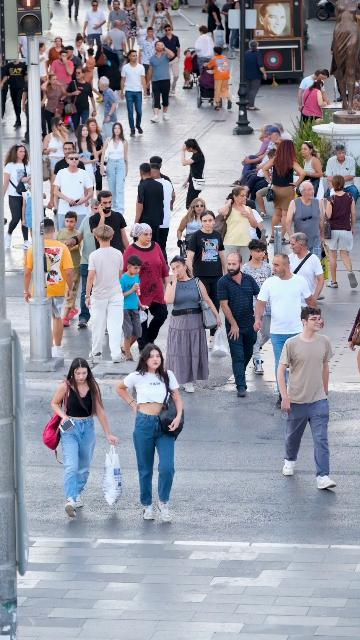person: (115, 343, 184, 523), (50, 357, 119, 517), (276, 306, 336, 490), (253, 254, 321, 406), (164, 254, 222, 393), (24, 218, 75, 363), (217, 252, 262, 398), (121, 222, 170, 352), (185, 210, 228, 345), (84, 224, 125, 363), (66, 198, 103, 328), (239, 239, 273, 375), (262, 139, 306, 244), (321, 174, 358, 289), (53, 150, 94, 233), (286, 181, 326, 265), (218, 186, 259, 265), (119, 255, 149, 362), (55, 211, 82, 327), (2, 144, 31, 250), (99, 122, 129, 217), (285, 232, 325, 301), (229, 125, 272, 187), (46, 142, 85, 210), (89, 191, 130, 254), (150, 163, 175, 264), (244, 125, 282, 190), (60, 67, 97, 133), (119, 50, 147, 136), (146, 39, 175, 122), (73, 125, 100, 213), (134, 163, 164, 236), (325, 145, 359, 208), (247, 148, 277, 218), (176, 197, 209, 258), (42, 116, 72, 182), (0, 60, 28, 129), (40, 74, 68, 141), (203, 46, 232, 110), (180, 138, 205, 210), (297, 69, 330, 123), (136, 27, 161, 98), (244, 40, 267, 111), (97, 48, 123, 110), (159, 24, 181, 95), (299, 141, 324, 194), (86, 118, 104, 191), (301, 80, 330, 125), (98, 76, 118, 141), (122, 0, 143, 57), (104, 20, 127, 71), (82, 0, 106, 48), (192, 25, 215, 74), (47, 50, 75, 85), (348, 307, 360, 387), (107, 0, 128, 41), (88, 48, 104, 100), (150, 1, 173, 37), (205, 0, 224, 43), (46, 37, 68, 72), (83, 55, 98, 103), (244, 211, 267, 242), (150, 156, 172, 182), (39, 42, 49, 82), (183, 50, 193, 89), (132, 0, 149, 21)
